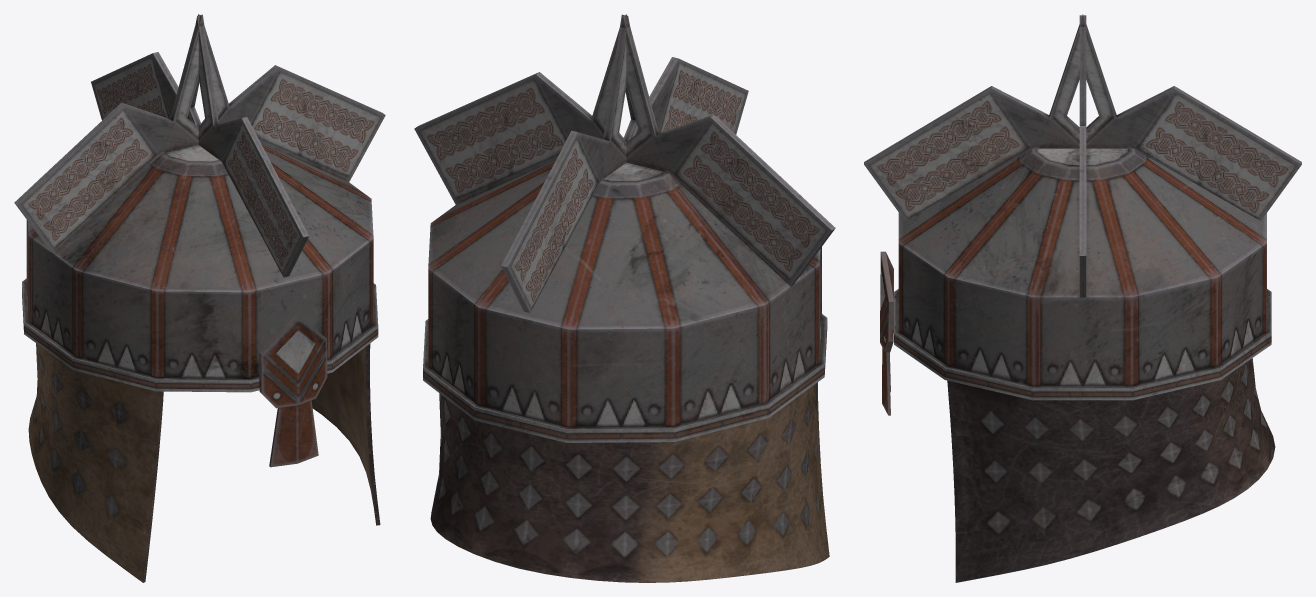
File: sk_dwarf_iron_helmet_med_a1.fbx
3 renders of one model, left to right at view 1: azimuth 30°, elevation 25°; view 2: azimuth 150°, elevation 25°; view 3: azimuth 270°, elevation 25°, orthographic. The views are drawn at different scales.
Visible parts, largest first — view 1: sk_dwarf_iron_helmet_med_a1; view 2: sk_dwarf_iron_helmet_med_a1; view 3: sk_dwarf_iron_helmet_med_a1.
Part boxes in pixels (x1,y1,x2,y2): sk_dwarf_iron_helmet_med_a1: (14,14,385,582); sk_dwarf_iron_helmet_med_a1: (414,14,835,582); sk_dwarf_iron_helmet_med_a1: (864,14,1301,582).
Size of the model in its own units: 0.3245 by 0.3245 by 0.4159.
Materials: 1 (1 with a texture image).
